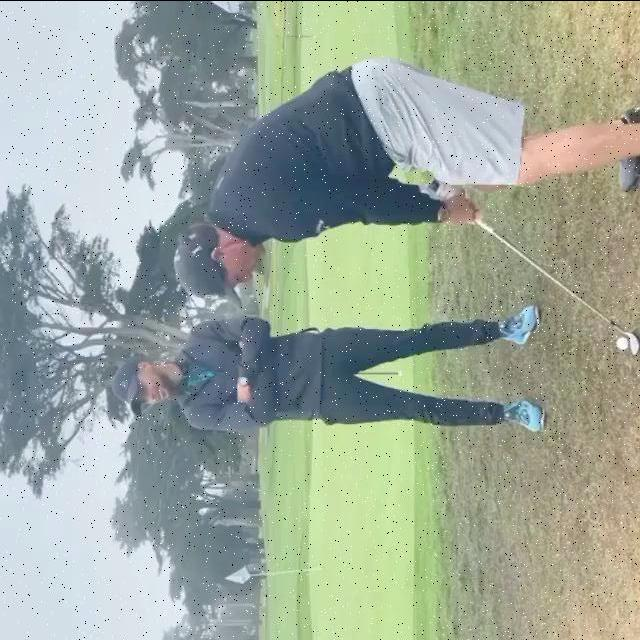golf ball: (617, 336, 628, 348)
golf club-handle: (430, 180, 639, 355)
golf club-head: (627, 332, 638, 356)
